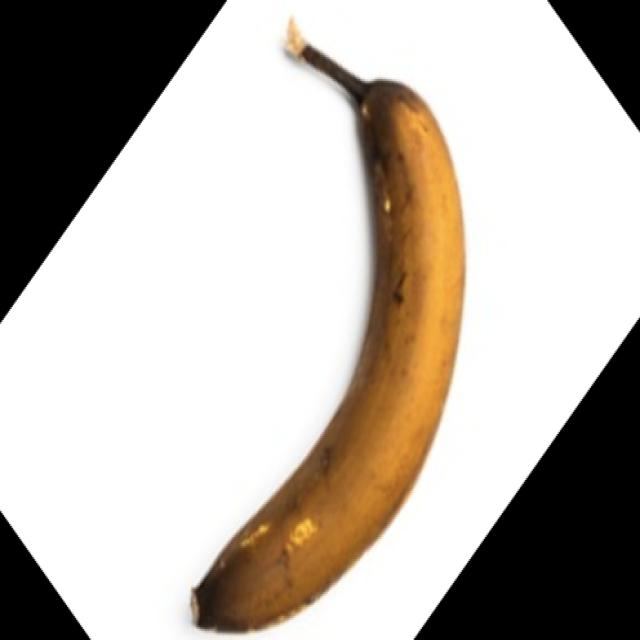overripe: (191, 53, 468, 634)
